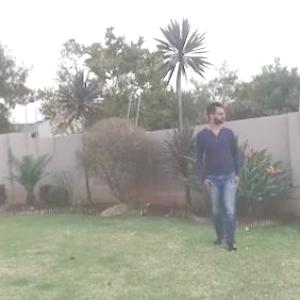follow: (188, 84, 251, 273)
